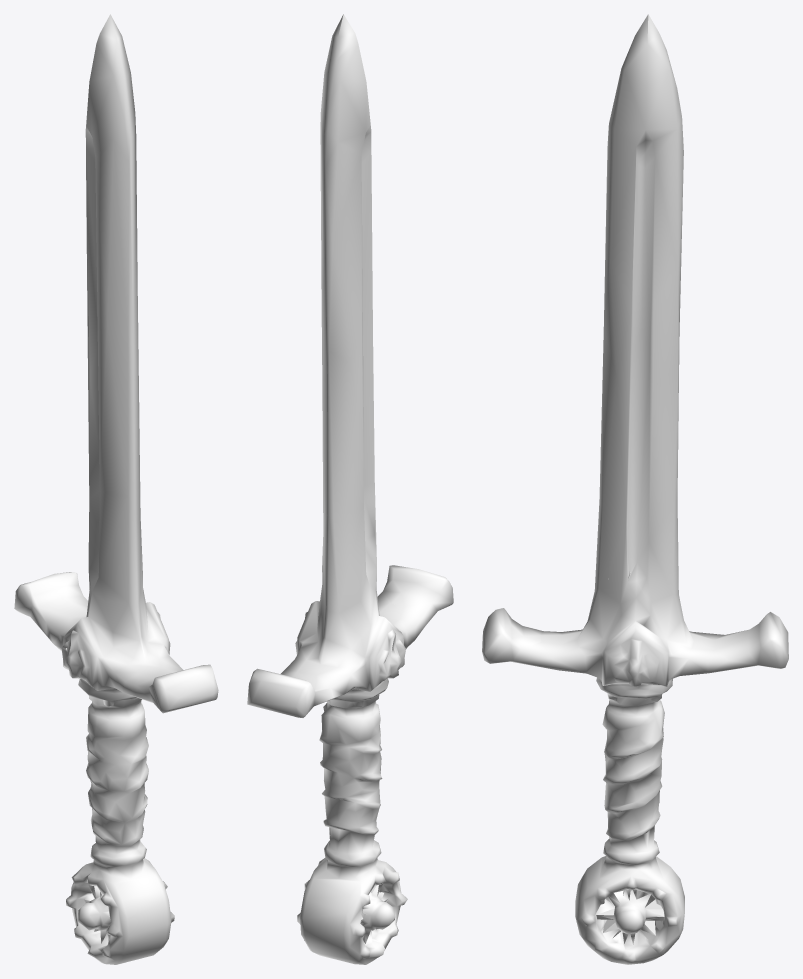
The model's file is sword_keep.glb.
3 views of the same model, side by side, from view 1: azimuth 30°, elevation 25°; view 2: azimuth 150°, elevation 25°; view 3: azimuth 270°, elevation 25° (orthographic).
Parts seen in each view (by area): view 1: sword_keep; view 2: sword_keep; view 3: sword_keep.
Boxes of the visible parts, x1=… form: sword_keep: x1=14, y1=14, x2=218, y2=964; sword_keep: x1=247, y1=14, x2=453, y2=964; sword_keep: x1=482, y1=14, x2=788, y2=964.
Size of the model in its own units: 0.1114 by 1 by 0.2961.
Materials: 1 (1 with a texture image).
